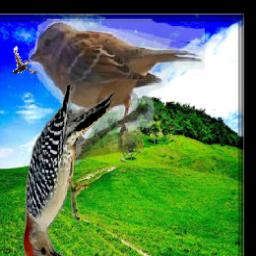Sparrow: (28, 20, 204, 171)
Woodpecker: (11, 86, 118, 256), (13, 47, 38, 75)
